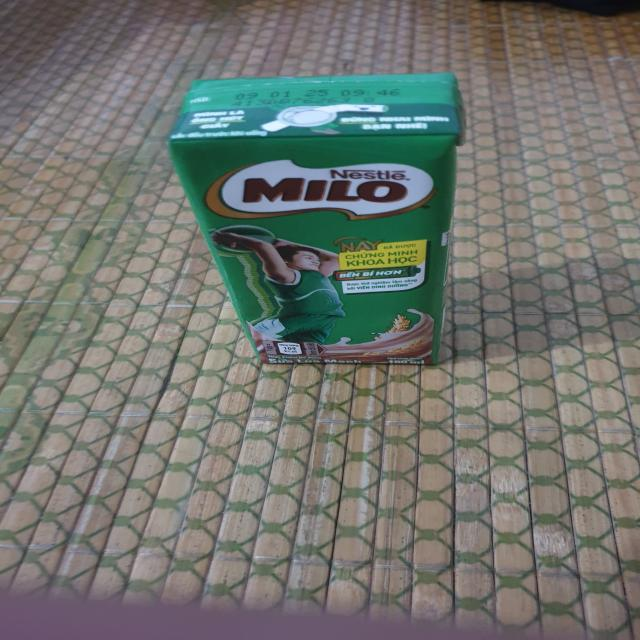Milo: (161, 70, 475, 372)
